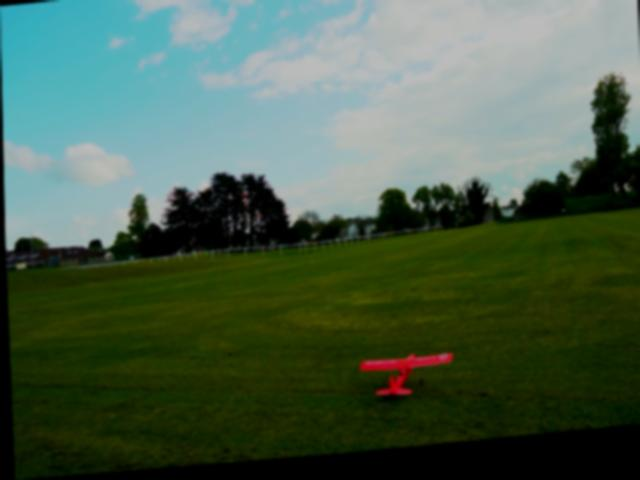plane: (360, 355, 453, 404)
